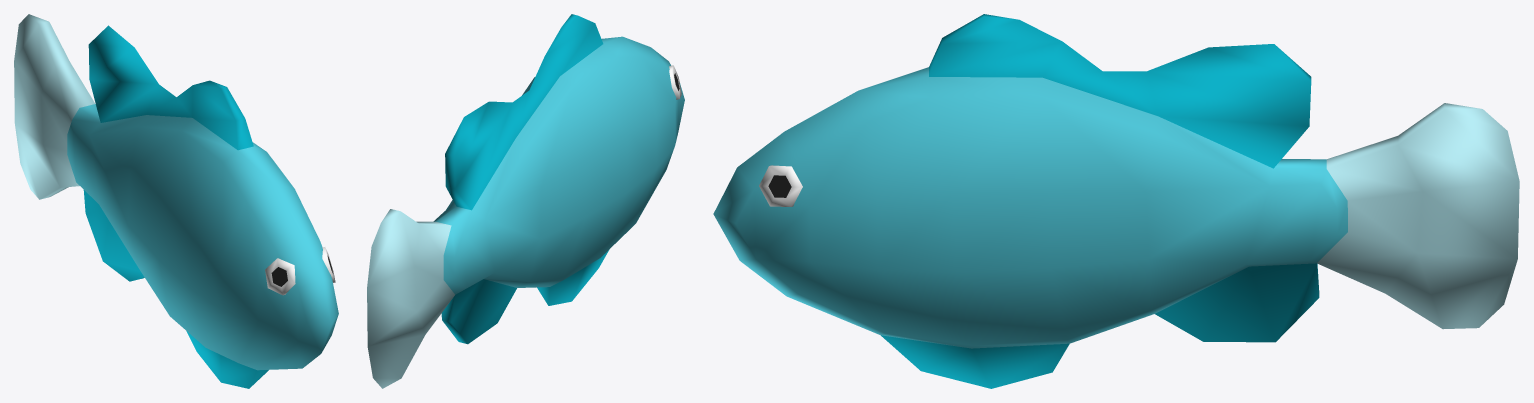
File: CyanFish.fbx
3 renders of one model, left to right at view 1: azimuth 30°, elevation 25°; view 2: azimuth 150°, elevation 25°; view 3: azimuth 270°, elevation 25°, orthographic. The views are drawn at different scales.
Parts seen in each view (by area): view 1: Fish_012; view 2: Fish_012; view 3: Fish_012.
Boxes of the visible parts, bbox=[...] form: Fish_012: bbox=[14, 14, 338, 388]; Fish_012: bbox=[367, 14, 684, 388]; Fish_012: bbox=[713, 14, 1519, 388].
Bounding box in the file's own units: 8.62 × 28.16 × 55.17.
